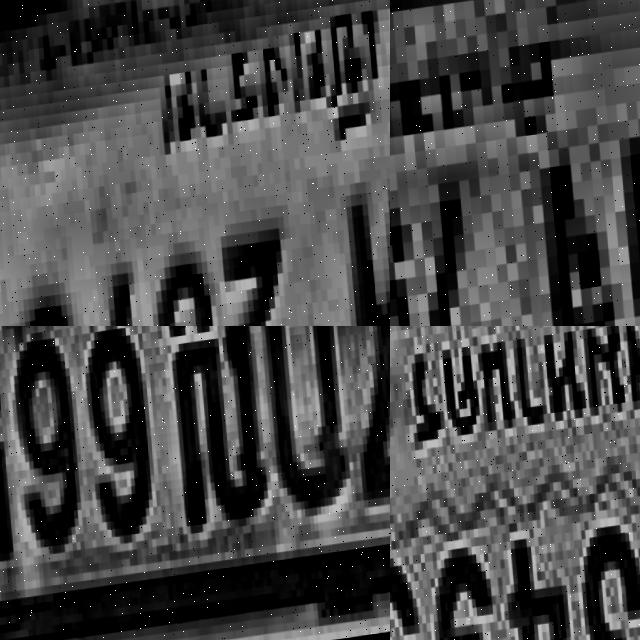license-plate: (0, 0, 390, 326), (0, 326, 390, 640), (390, 0, 640, 326), (390, 326, 640, 640)
